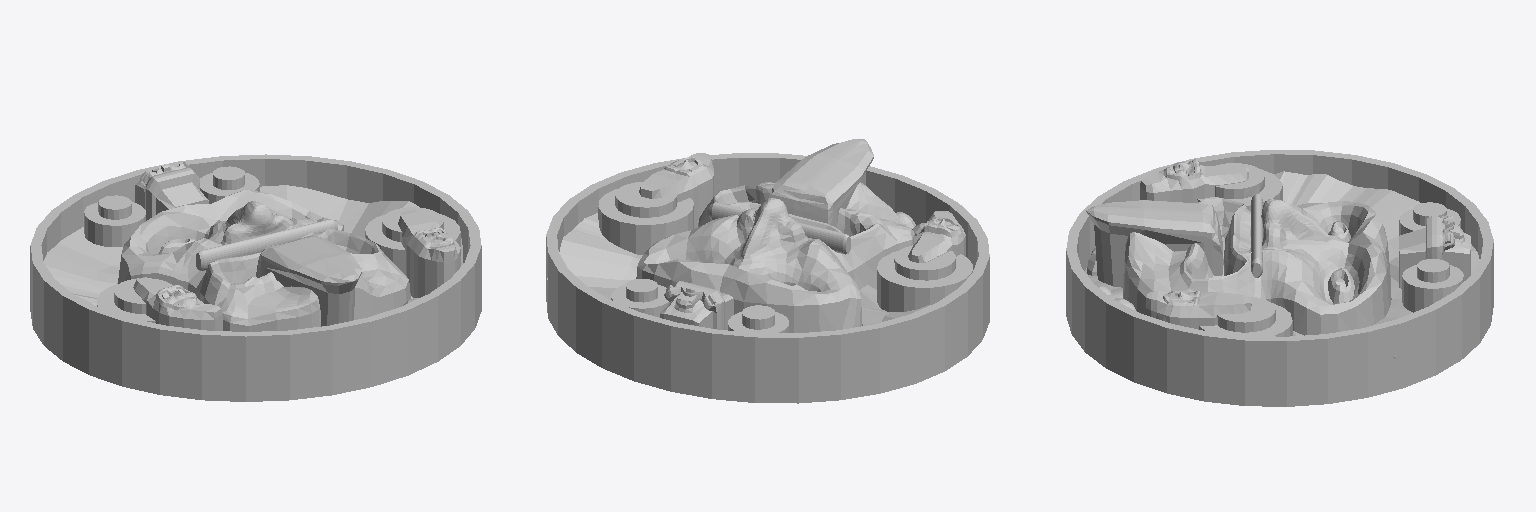
Rendered from AztecSunStone.obj.
3 renders of one model, left to right at view 1: azimuth 30°, elevation 25°; view 2: azimuth 150°, elevation 25°; view 3: azimuth 270°, elevation 25°, orthographic.
Visible parts, largest first — view 1: Circle.001_Circle.002; view 2: Circle.001_Circle.002; view 3: Circle.001_Circle.002.
Boxes of the visible parts, <box> form: Circle.001_Circle.002: <box>30,154,481,401</box>; Circle.001_Circle.002: <box>546,139,989,403</box>; Circle.001_Circle.002: <box>1066,150,1493,406</box>.
Size of the model in its own units: 10.96 by 2.94 by 10.33.